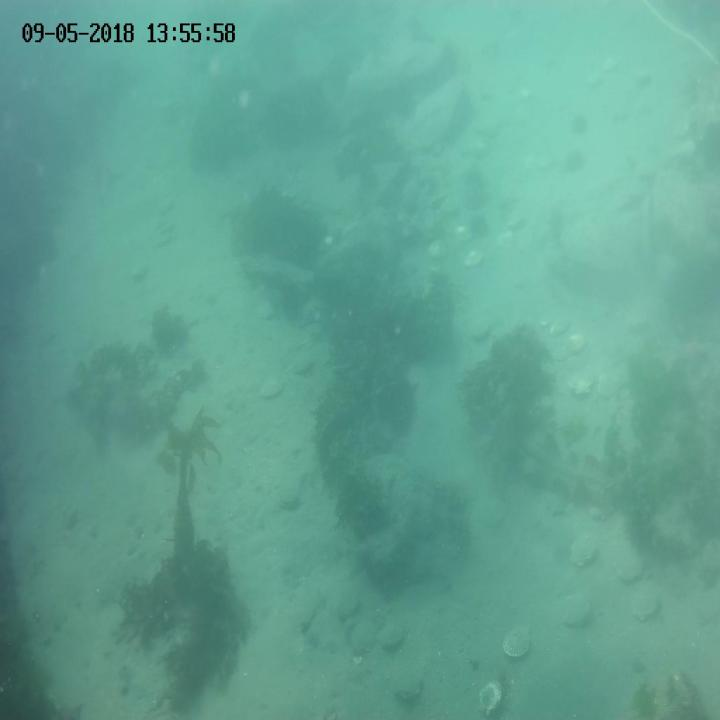scallop: (566, 530, 602, 570), (558, 590, 592, 629), (500, 624, 533, 661), (477, 680, 506, 720), (391, 671, 425, 701), (631, 592, 660, 626), (614, 550, 646, 580), (349, 622, 375, 658), (566, 371, 599, 398), (255, 373, 286, 398), (376, 623, 404, 649), (335, 594, 361, 620), (276, 487, 301, 513), (542, 493, 570, 515), (492, 230, 516, 252), (424, 239, 448, 259), (570, 332, 589, 355), (453, 224, 474, 243), (462, 250, 484, 268), (550, 318, 570, 337), (471, 324, 489, 341), (550, 346, 568, 362)
